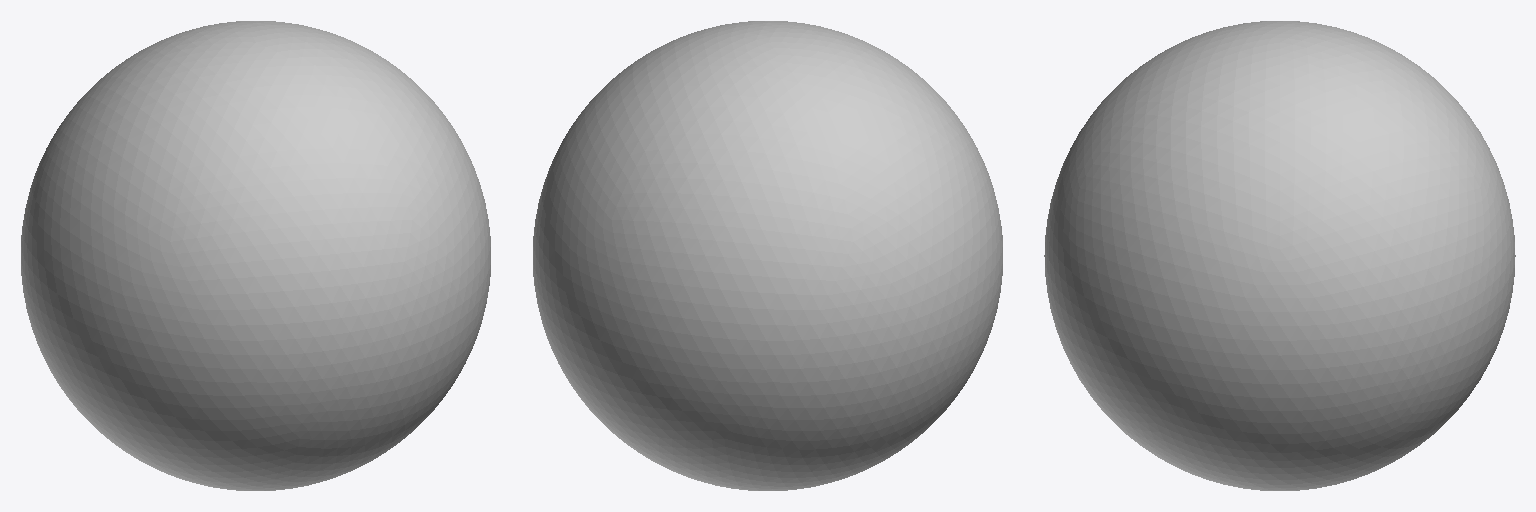
Rendered from skybox.obj.
The picture shows the model from 3 angles: view 1: azimuth 30°, elevation 25°; view 2: azimuth 150°, elevation 25°; view 3: azimuth 270°, elevation 25°; orthographic projection.
Visible parts, largest first — view 1: Icosphere; view 2: Icosphere; view 3: Icosphere.
Part boxes in pixels (bbox=[...]): Icosphere: bbox=[21, 21, 490, 490]; Icosphere: bbox=[533, 21, 1002, 490]; Icosphere: bbox=[1044, 21, 1515, 490].
Bounding box in the file's own units: 4000 × 4000 × 4000.